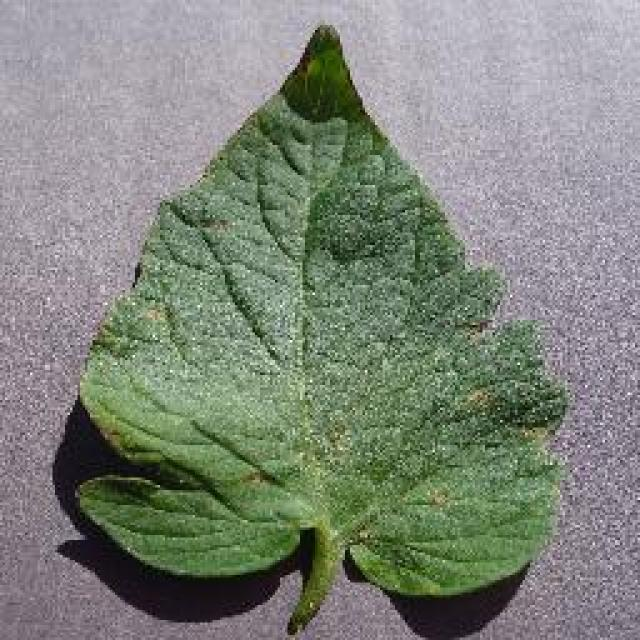Tomato Septoria spot leaf: (68, 24, 570, 601)
